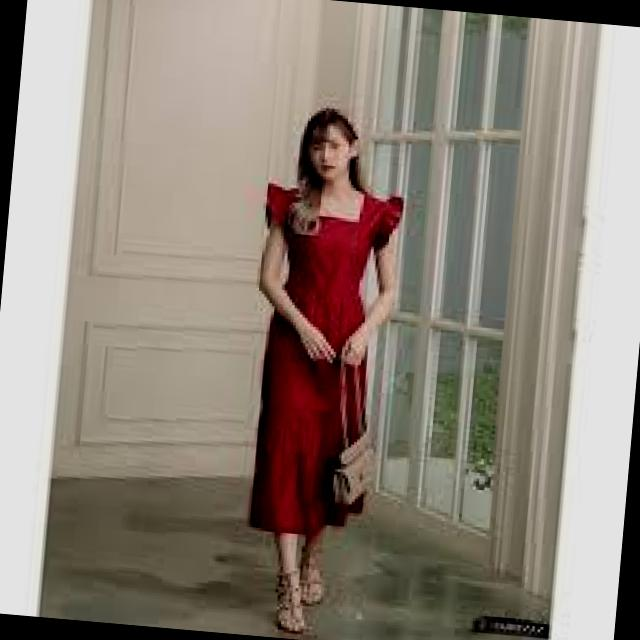dress: (232, 180, 406, 548)
